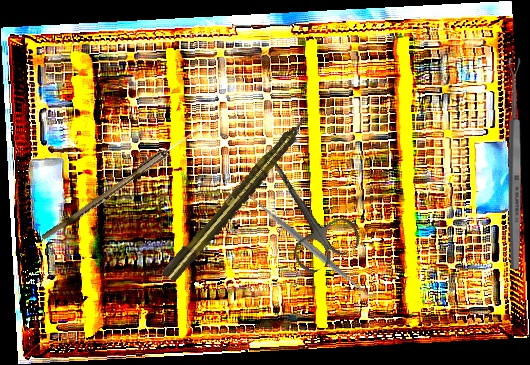Handpiece: (159, 107, 318, 285)
Iris Scissors: (243, 138, 365, 278)
Spatula Surgical: (239, 186, 378, 306)
Surgical Spoon: (41, 117, 210, 245), (508, 58, 522, 269)
